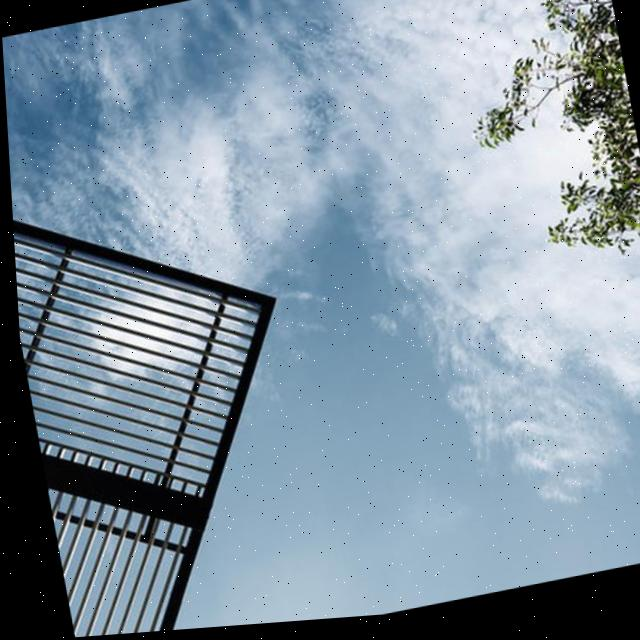building: (11, 159, 339, 640)
